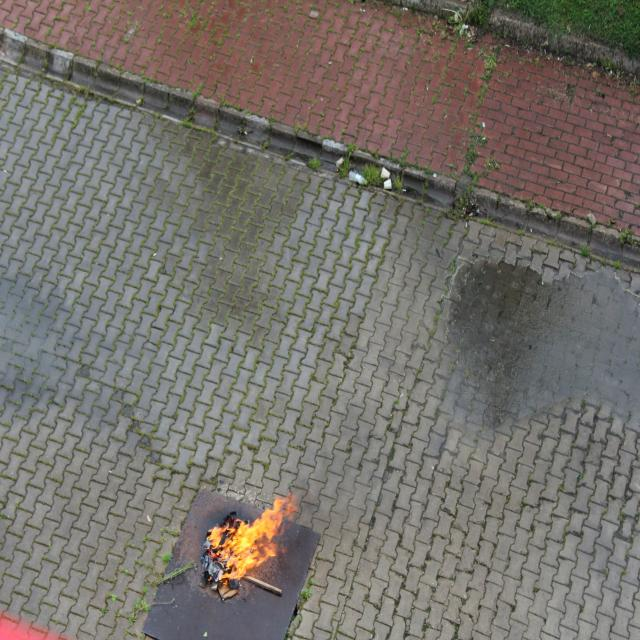fire: (208, 489, 294, 580)
